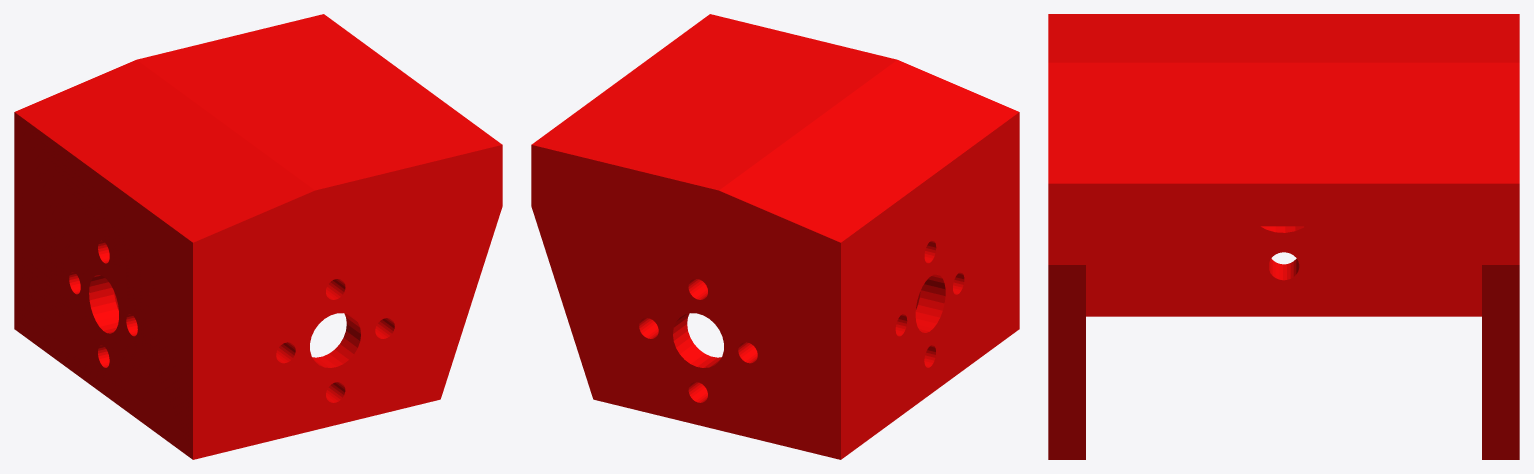
The model's file is Right_shoulder.dae.
The picture shows the model from 3 angles, left to right: view 1: azimuth 30°, elevation 25°; view 2: azimuth 150°, elevation 25°; view 3: azimuth 270°, elevation 25°; orthographic projection. The views are drawn at different scales.
Parts seen in each view (by area): view 1: shoulder-right; view 2: shoulder-right; view 3: shoulder-right.
Boxes of the visible parts, x1,y1,x2,y2 form: shoulder-right: [14, 14, 502, 459]; shoulder-right: [531, 14, 1019, 459]; shoulder-right: [1048, 14, 1519, 459].
Bounding box in the file's own units: 0.05 × 0.05 × 0.037.
